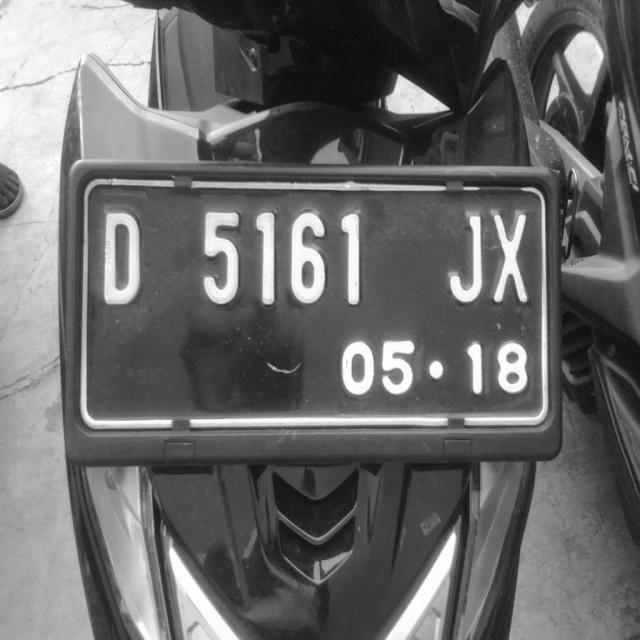1: (330, 208, 374, 318), (250, 198, 286, 318)
5: (198, 200, 242, 318)
6: (290, 206, 326, 306)
D: (96, 206, 144, 320)
J: (448, 198, 486, 316)
X: (491, 200, 536, 318)
